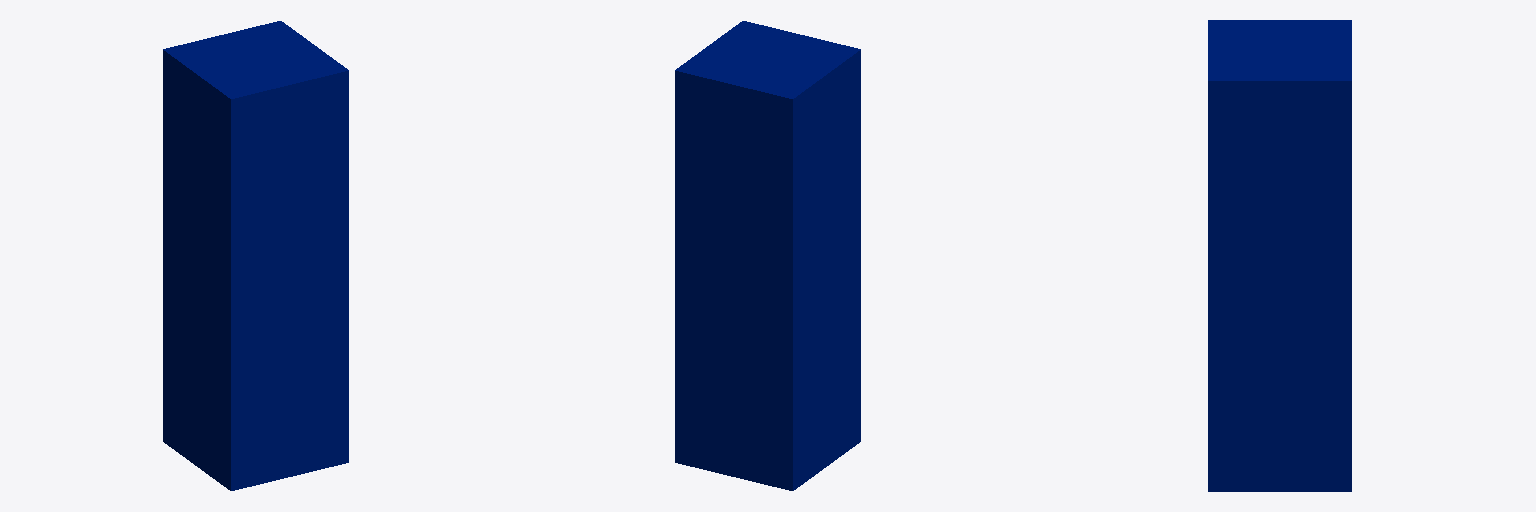
robot.urdf — robot_pedestal:
<?xml version="1.0" ?>
<!-- =================================================================================== -->
<!-- |    This document was autogenerated by xacro from robot1_pedestal.xacro          | -->
<!-- |    EDITING THIS FILE BY HAND IS NOT RECOMMENDED                                 | -->
<!-- =================================================================================== -->
<robot name="robot_pedestal">
  <link name="world_interface"/>
  <joint name="robot1pedestal_joint" type="fixed">
    <origin rpy="0.0 0.0 0.0" xyz="0.5 1.8 0.0"/>
    <parent link="world_interface"/>
    <child link="robot1pedestal_link"/>
  </joint>
  <link name="robot1pedestal_link">
    <visual>
      <origin xyz="0 0 0.475"/>
      <geometry>
        <box size="0.3 0.3 0.95"/>
      </geometry>
      <material name="pedestal_color">
        <color rgba="0 0.1568627450980392 0.5254901960784314 1"/>
      </material>
    </visual>
    <collision>
      <origin xyz="0 0 0.475"/>
      <geometry>
        <box size="0.3 0.3 0.95"/>
      </geometry>
    </collision>
    <inertial>
      <mass value="500"/>
      <origin rpy="0 0 0" xyz="0 0 0"/>
      <inertia ixx="0.001" ixy="0" ixz="0" iyy="0.001" iyz="0" izz="0.001"/>
    </inertial>
  </link>
  <gazebo reference="robot1pedestal_link">
    <material>Gazebo/Blue</material>
  </gazebo>
  <gazebo>
    <static>true</static>
  </gazebo>
</robot>

--- Render facts (derived) ---
3 views of the same robot in one strip: view 1: azimuth 30°, elevation 25°; view 2: azimuth 150°, elevation 25°; view 3: azimuth 270°, elevation 25° (orthographic).
Robot: robot_pedestal — 2 links, 1 joints (1 fixed); root link world_interface; default pose: every joint at zero.
Visible links, largest first — view 1: robot1pedestal_link; view 2: robot1pedestal_link; view 3: robot1pedestal_link.
Link boxes in pixels (x1,y1,x2,y2): robot1pedestal_link: (163,21,348,490); robot1pedestal_link: (675,21,860,490); robot1pedestal_link: (1208,20,1351,491).
Bounding box of the posed robot: 0.3 × 0.3 × 0.95 m (x, y, z).
Geometry: primitives only (box / cylinder / sphere), no mesh files.